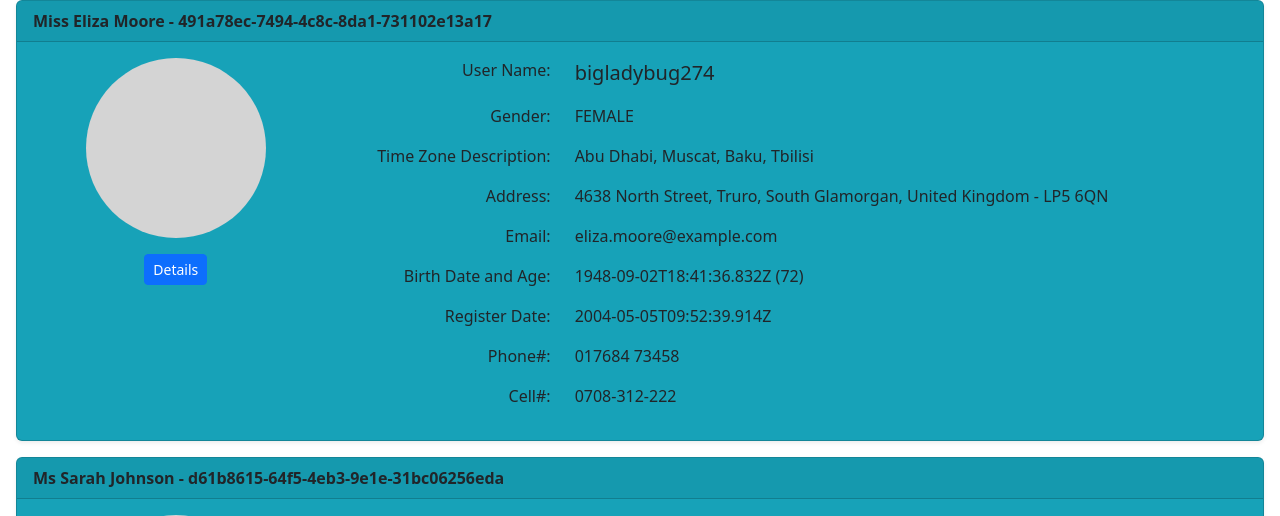
Test: Details button toggles the extra info panel
Click the button "Details" below "Miss Eliza Moore": point(176, 270) x1=144 y1=254 x2=207 y2=285
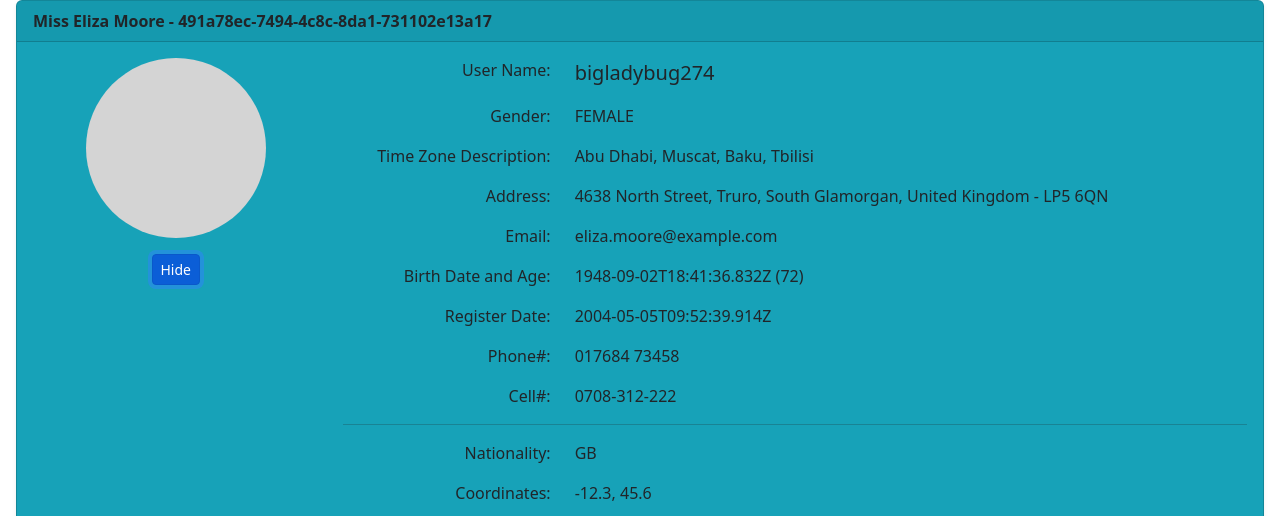
expect the button "Hide" is expanded: met, box x1=152 y1=254 x2=200 y2=285
expect the text "GB" is shown: met, box x1=575 y1=442 x2=597 y2=464
